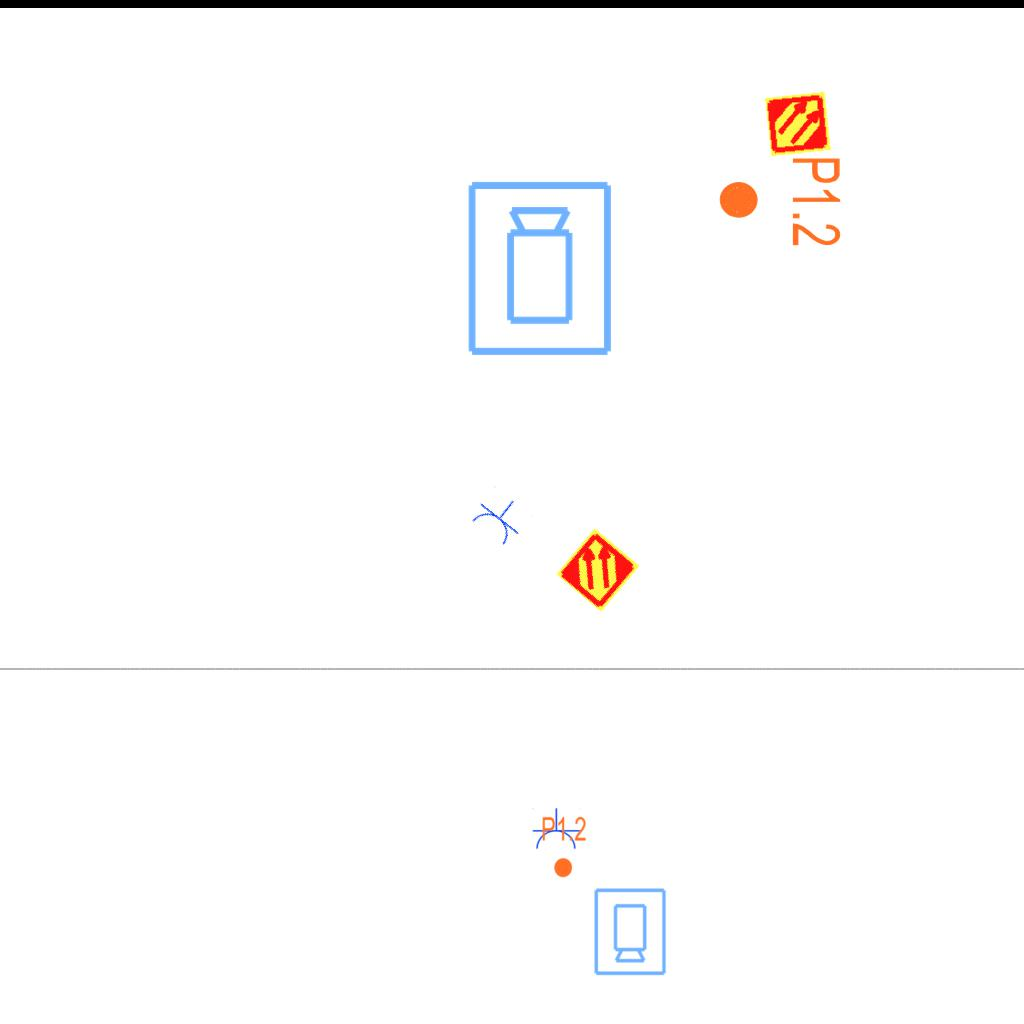ASR_Ansaugrauchmelder: (554, 526, 642, 614), (763, 89, 833, 159)
Downlight_LED_Einbauleuchten_Flur: (716, 155, 844, 248), (541, 815, 587, 879)
KFO_Kamera_mit_Festobjektiv: (464, 178, 618, 360), (591, 886, 668, 977)
Schukosteckdose_einfach: (467, 485, 533, 550), (531, 808, 581, 851)
